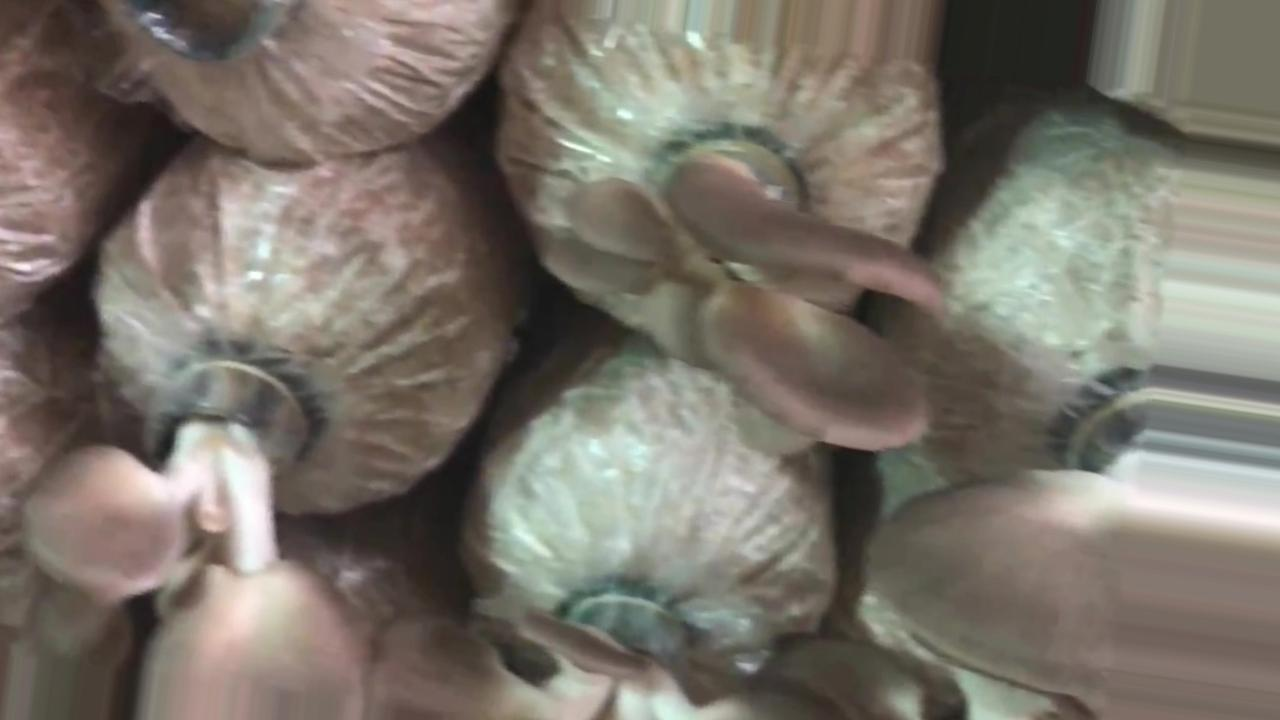nam: (26, 348, 368, 720), (546, 139, 939, 453), (880, 416, 1153, 700), (369, 609, 914, 720)
